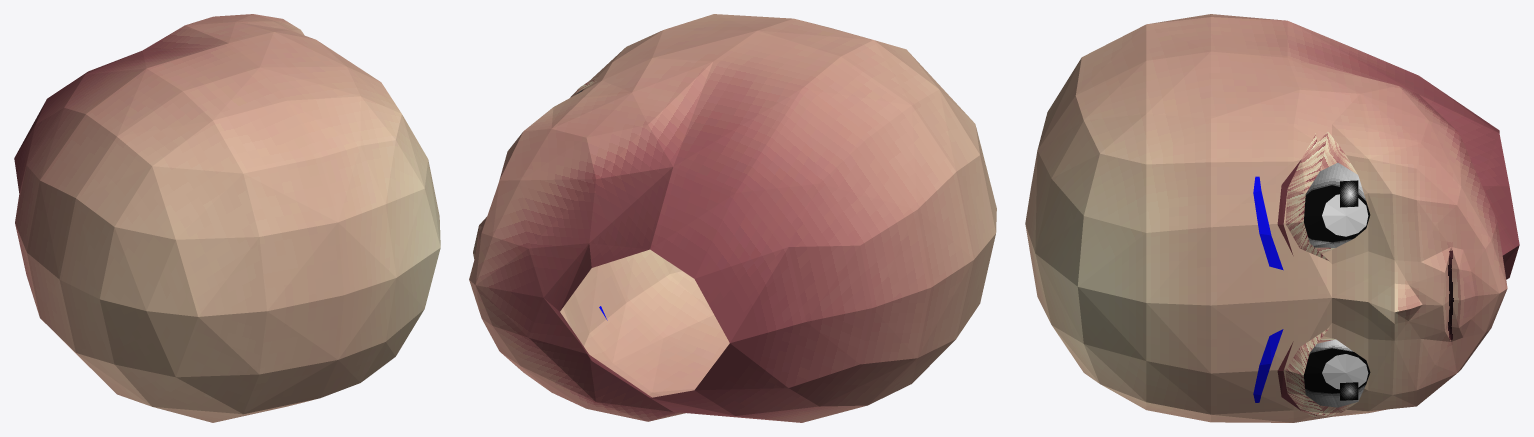
File: Npc_60043.obj
3 renders of one model, left to right at view 1: azimuth 30°, elevation 25°; view 2: azimuth 150°, elevation 25°; view 3: azimuth 270°, elevation 25°, orthographic. The views are drawn at different scales.
Parts seen in each view (by area): view 1: Npc_60043; view 2: Npc_60043; view 3: Npc_60043.
Part boxes in pixels (x1,y1,x2,y2): Npc_60043: (14, 14, 440, 422); Npc_60043: (469, 14, 996, 422); Npc_60043: (1025, 14, 1519, 422).
Size of the model in its own units: 0.4032 by 0.342 by 0.441.
3 materials, 2 textured.
